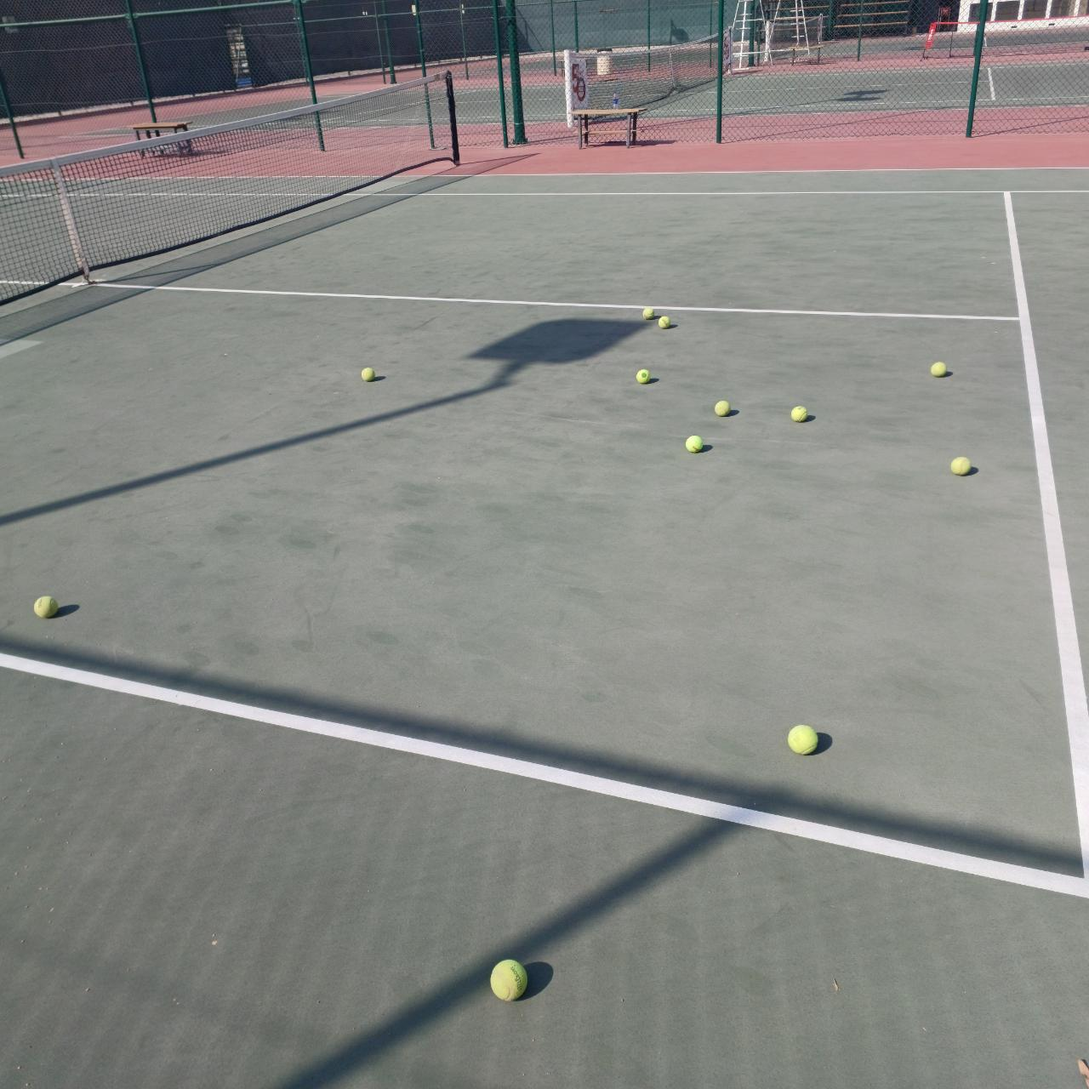tennis-ball: (488, 956, 527, 1001), (786, 721, 818, 755), (31, 593, 58, 619), (949, 454, 971, 476), (684, 433, 703, 452), (789, 403, 807, 421), (928, 359, 946, 377), (713, 398, 729, 415), (359, 365, 374, 381), (635, 367, 650, 383), (658, 316, 671, 328), (643, 308, 654, 319)
